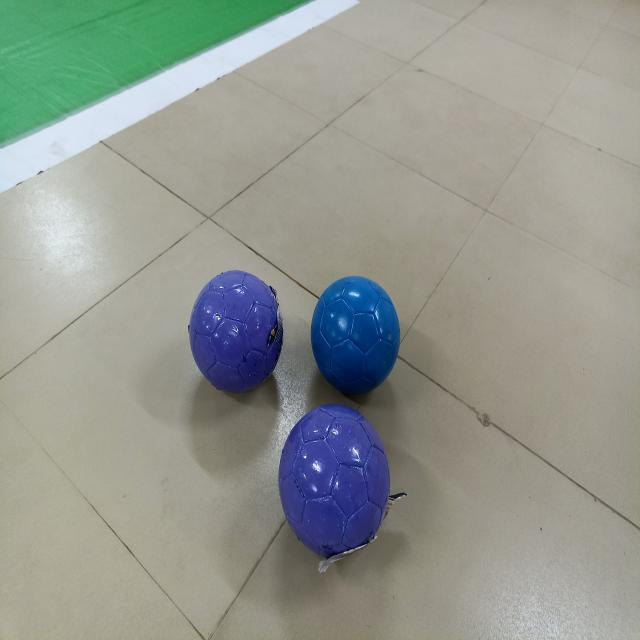blue_ball: (306, 268, 412, 409)
purple_ball: (274, 405, 399, 583), (183, 270, 289, 411)
